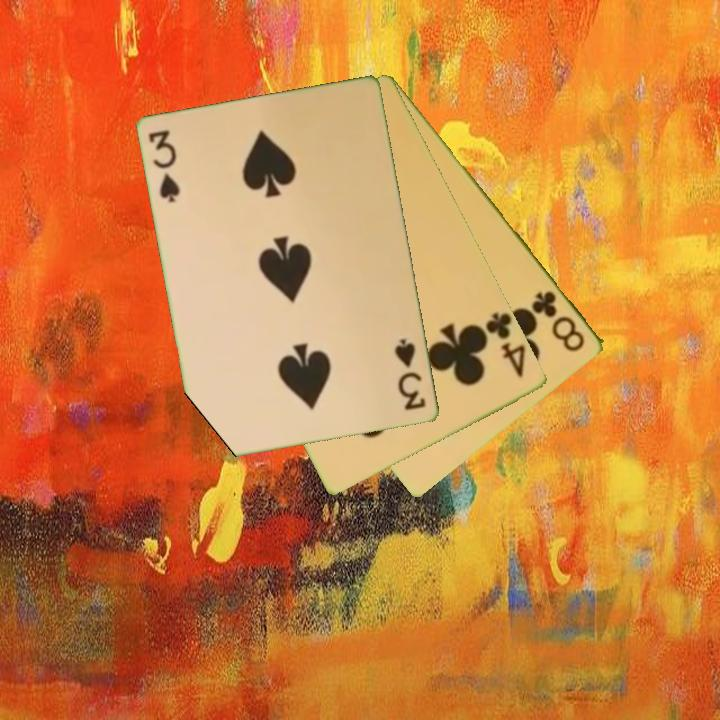3s: (145, 127, 184, 206), (391, 335, 429, 414)
4c: (482, 308, 529, 381)
8c: (528, 287, 589, 355)
